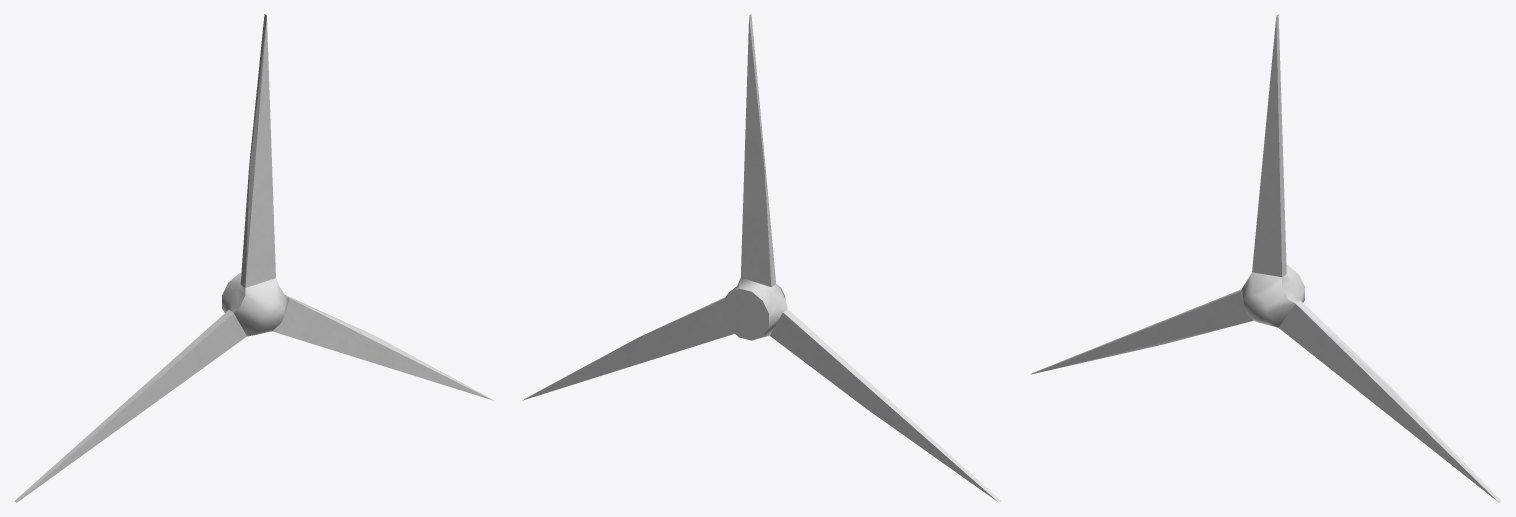
Rendered from AspasMolino.fbx.
3 views of the same model, side by side, from view 1: azimuth 30°, elevation 25°; view 2: azimuth 150°, elevation 25°; view 3: azimuth 330°, elevation 25° (orthographic).
Visible parts, largest first — view 1: Cylinder003; view 2: Cylinder003; view 3: Cylinder003.
Boxes of the visible parts, <box> form: Cylinder003: <box>14,14,492,502</box>; Cylinder003: <box>523,14,1001,502</box>; Cylinder003: <box>1031,14,1501,502</box>.
Size of the model in its own units: 256 by 226 by 25.4.
